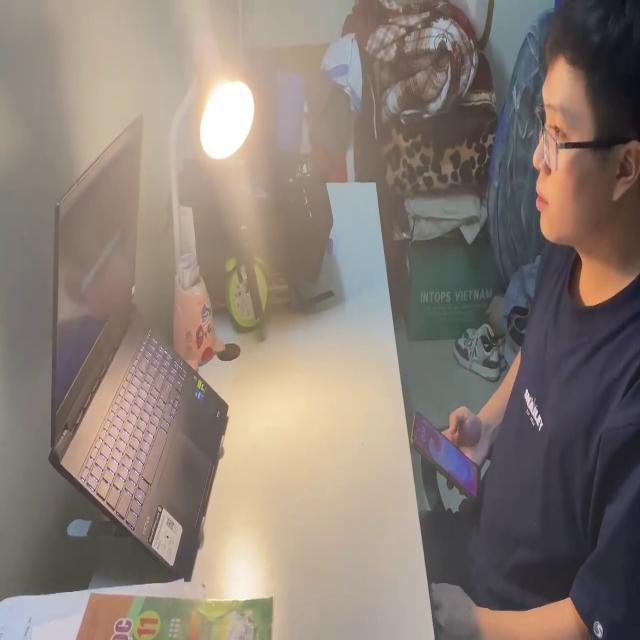book: (0, 586, 275, 640)
laptop: (46, 105, 229, 586)
phone: (407, 400, 485, 514)
student: (426, 0, 640, 640)
